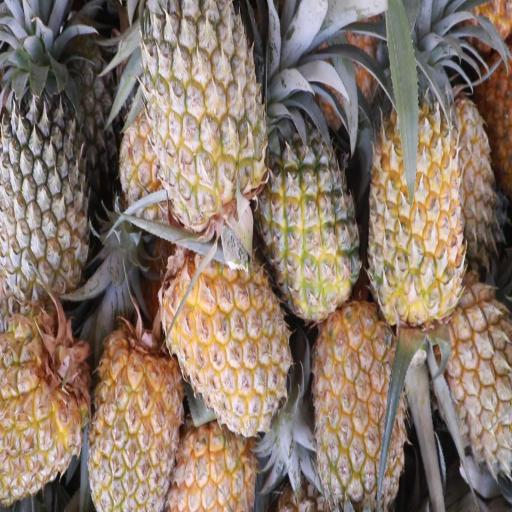------------------------------: (140, 2, 270, 232), (258, 85, 365, 331)
Pineapple - v8 v1: (362, 32, 469, 332), (160, 223, 294, 443), (308, 295, 410, 511), (0, 301, 97, 511), (86, 318, 184, 508), (445, 504, 451, 512)
